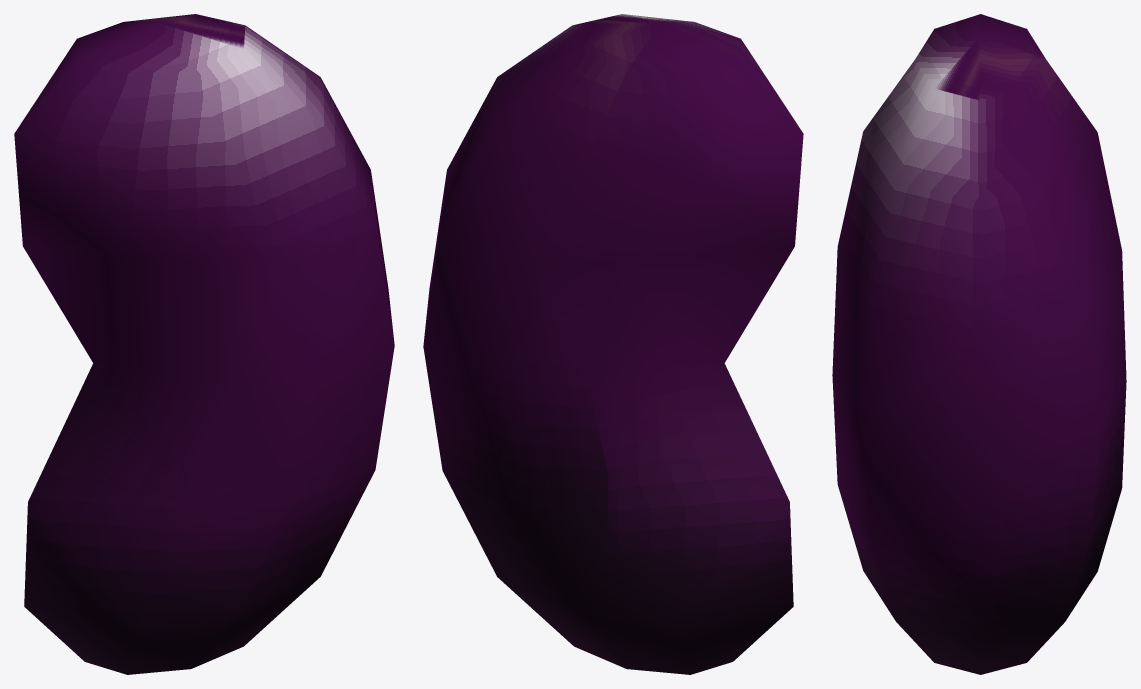
File: bean6.obj
3 views of the same model, side by side, from view 1: azimuth 30°, elevation 25°; view 2: azimuth 150°, elevation 25°; view 3: azimuth 270°, elevation 25° (orthographic). The views are drawn at different scales.
Visible parts, largest first — view 1: bean:Mesh; view 2: bean:Mesh; view 3: bean:Mesh.
Boxes of the visible parts, x1,y1,x2,y2 form: bean:Mesh: (14,14,394,674); bean:Mesh: (423,14,803,674); bean:Mesh: (832,14,1126,674).
Bounding box in the file's own units: 20.6 × 34.01 × 14.58.
